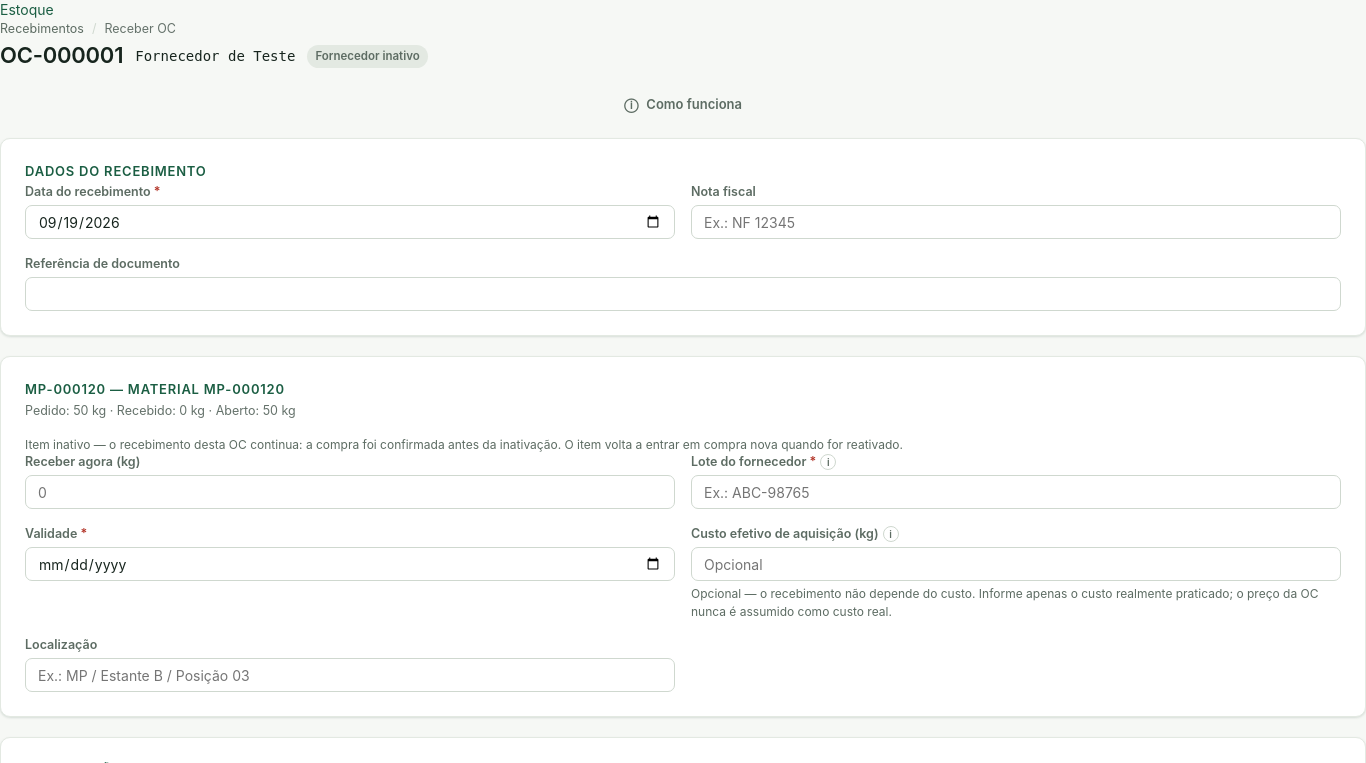
Test case: Recebimento de OC — guarda de alterações não salvas › lote do fornecedor digitado também pergunta
The image size is (1366, 763).
Expected: the heading "MP-000120 — Material MP-000120" is shown, [25,381,285,397]
Type "LT-2026-09" into the field with id "supplier-lot-poline-a".
click(1016, 492); type("LT-2026-09")  # box [691,475,1341,509]
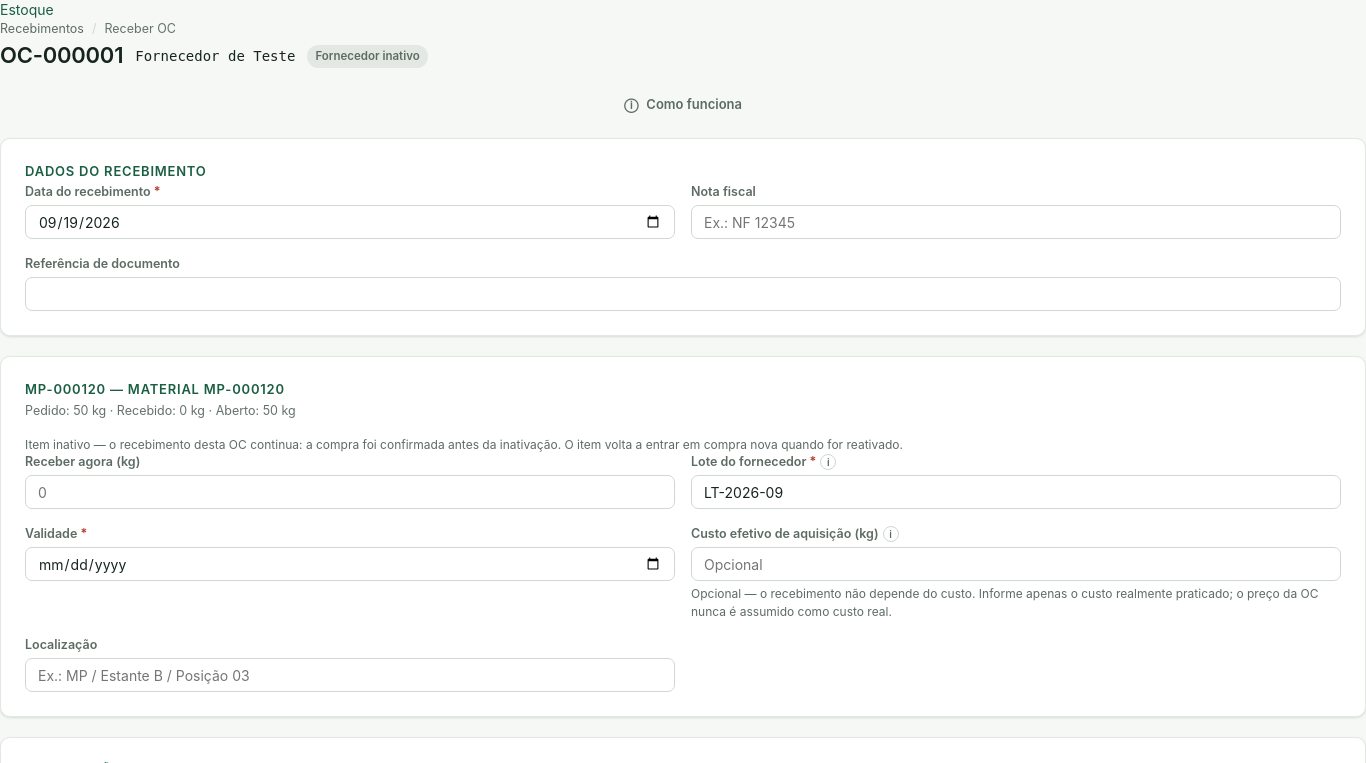
Click the link "Estoque".
click(27, 10)  # box [0,1,54,18]
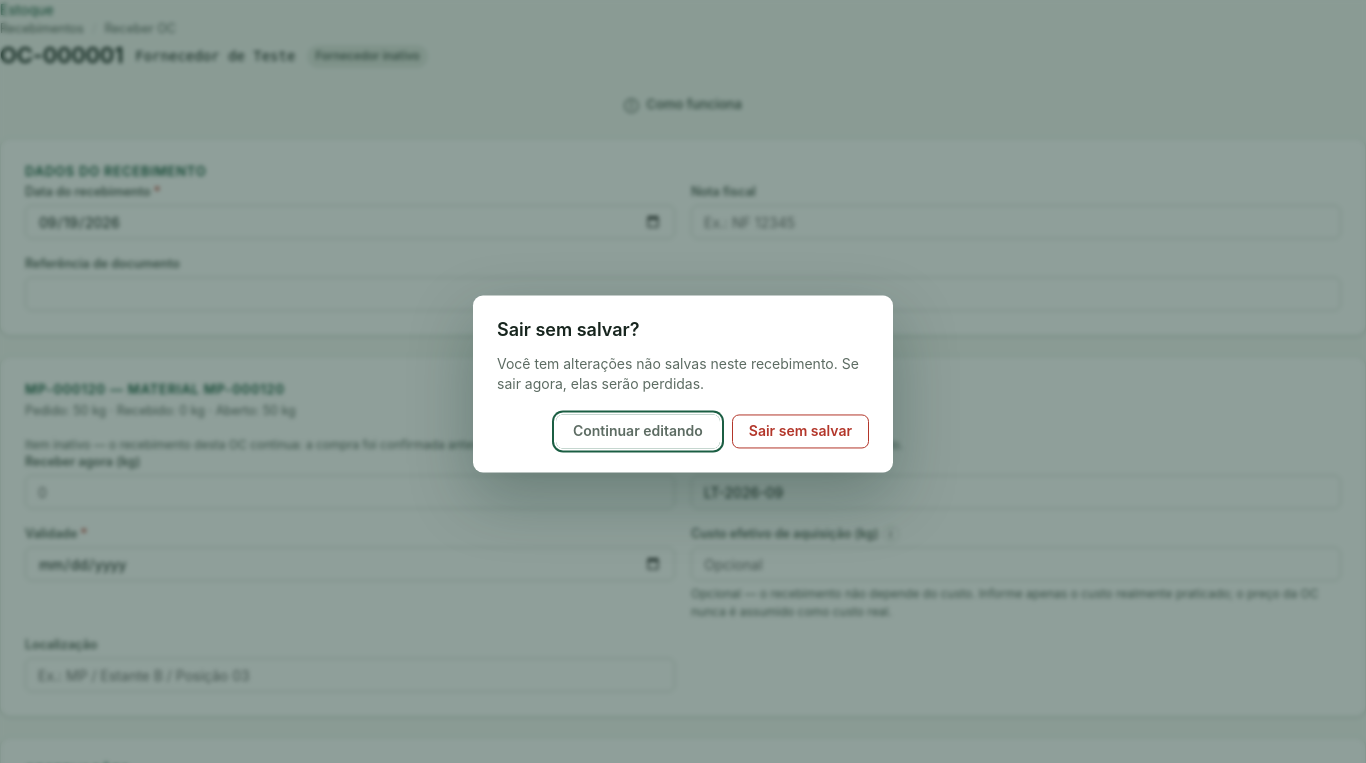
Result: the heading "Sair sem salvar?" is shown at [497,320,640,340]
